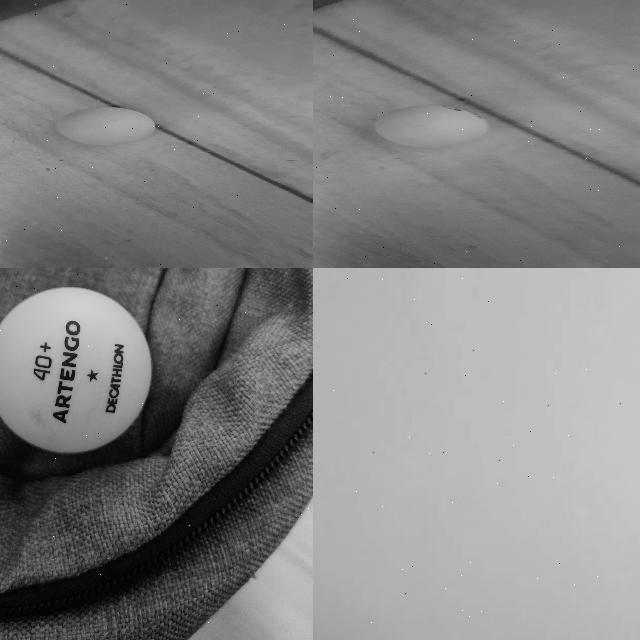ping-pong-ball: (0, 284, 150, 454), (374, 104, 491, 148), (56, 106, 154, 144)
